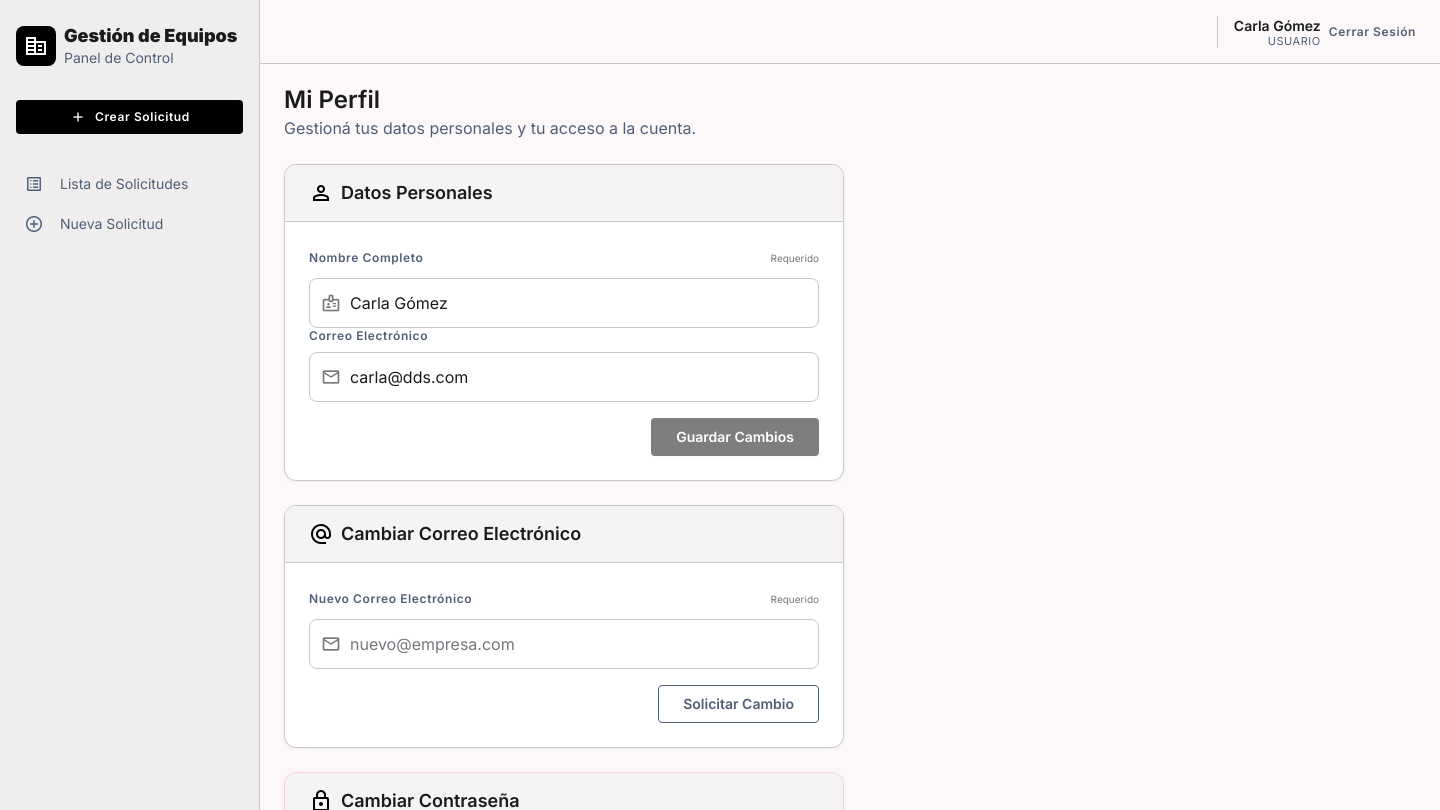
Test: PerfilPage › actualiza el nombre y muestra el mensaje de éxito
Replace the text in the field labelled "Nombre Completo" with "Carla Actualizada" at (564, 303), box [309, 278, 819, 328]
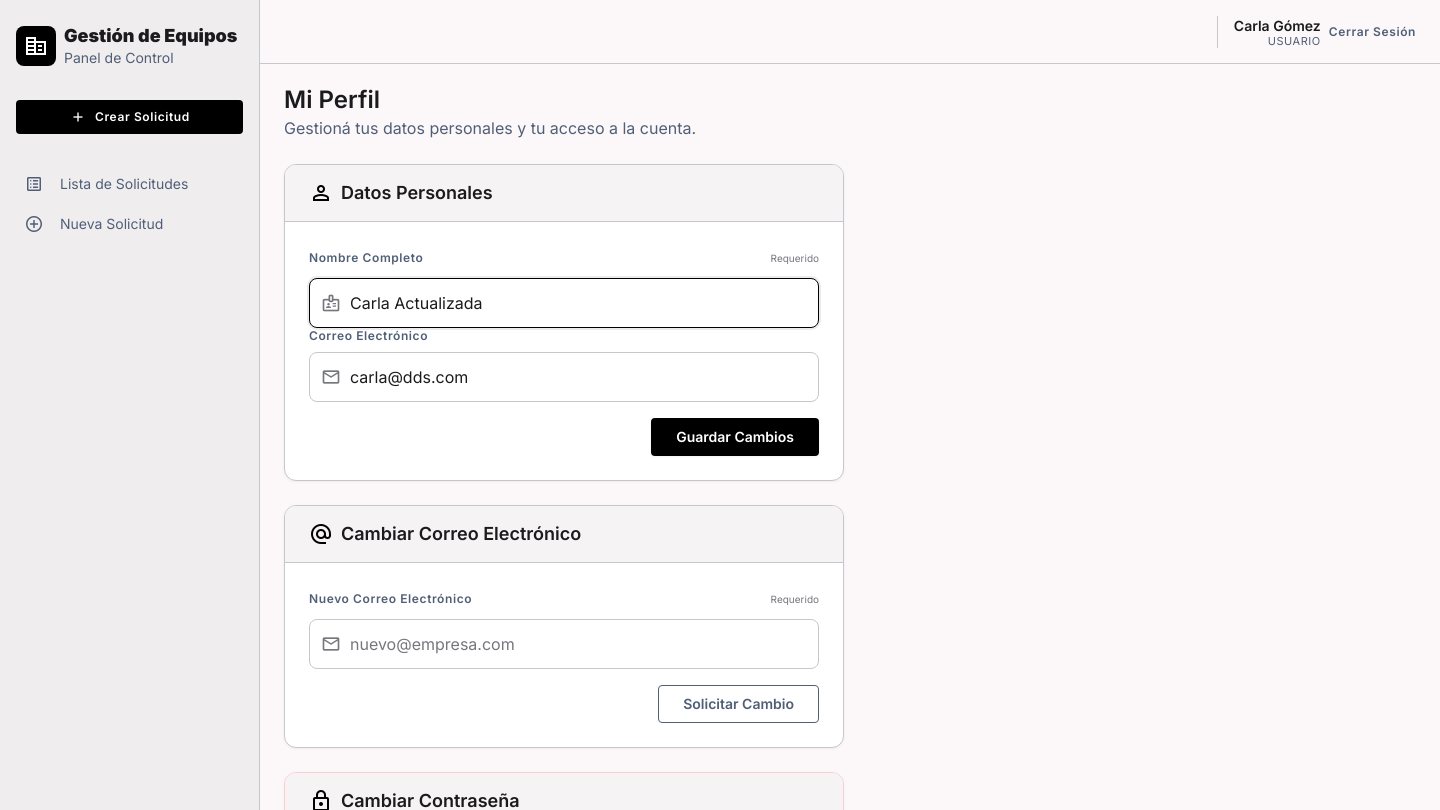
Click the button "Guardar Cambios" at (735, 437), box [651, 418, 819, 456]
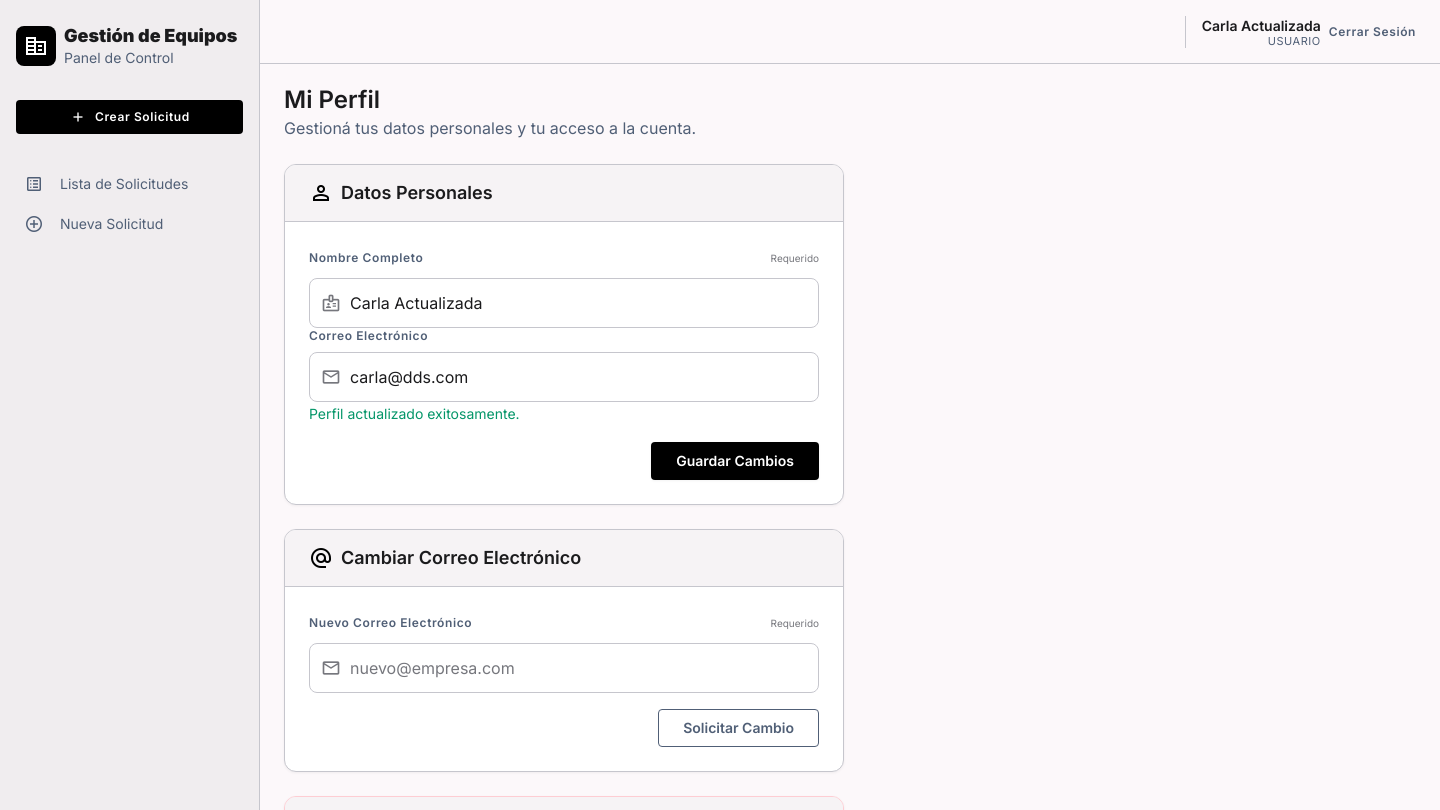
Check: the text "Perfil actualizado exitosamente." is shown, box [309, 405, 520, 422]
